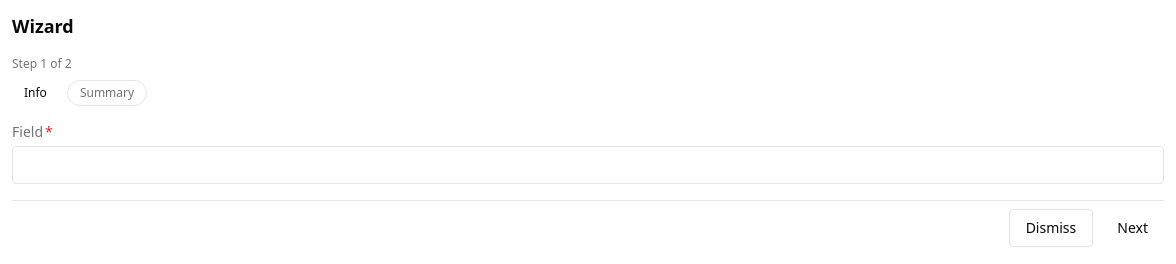
Test: Wizard validation gate › Next advances when the required input is filled
In the field named "field_required": (588, 165) [12,146,1164,184], type "hello"
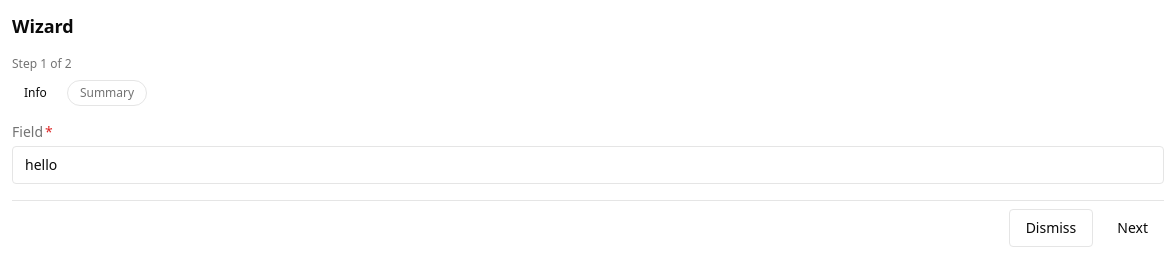
Click the button "Next": (1133, 228) [1101,209,1164,247]
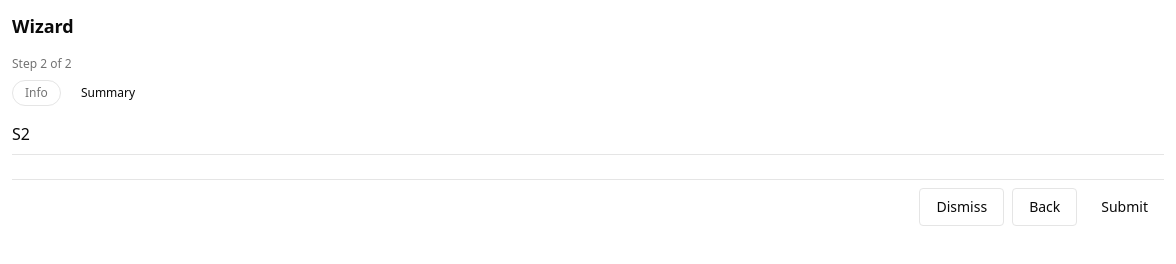
Expected: the text "Step 2 of 2" is shown, [12,55,72,72]
